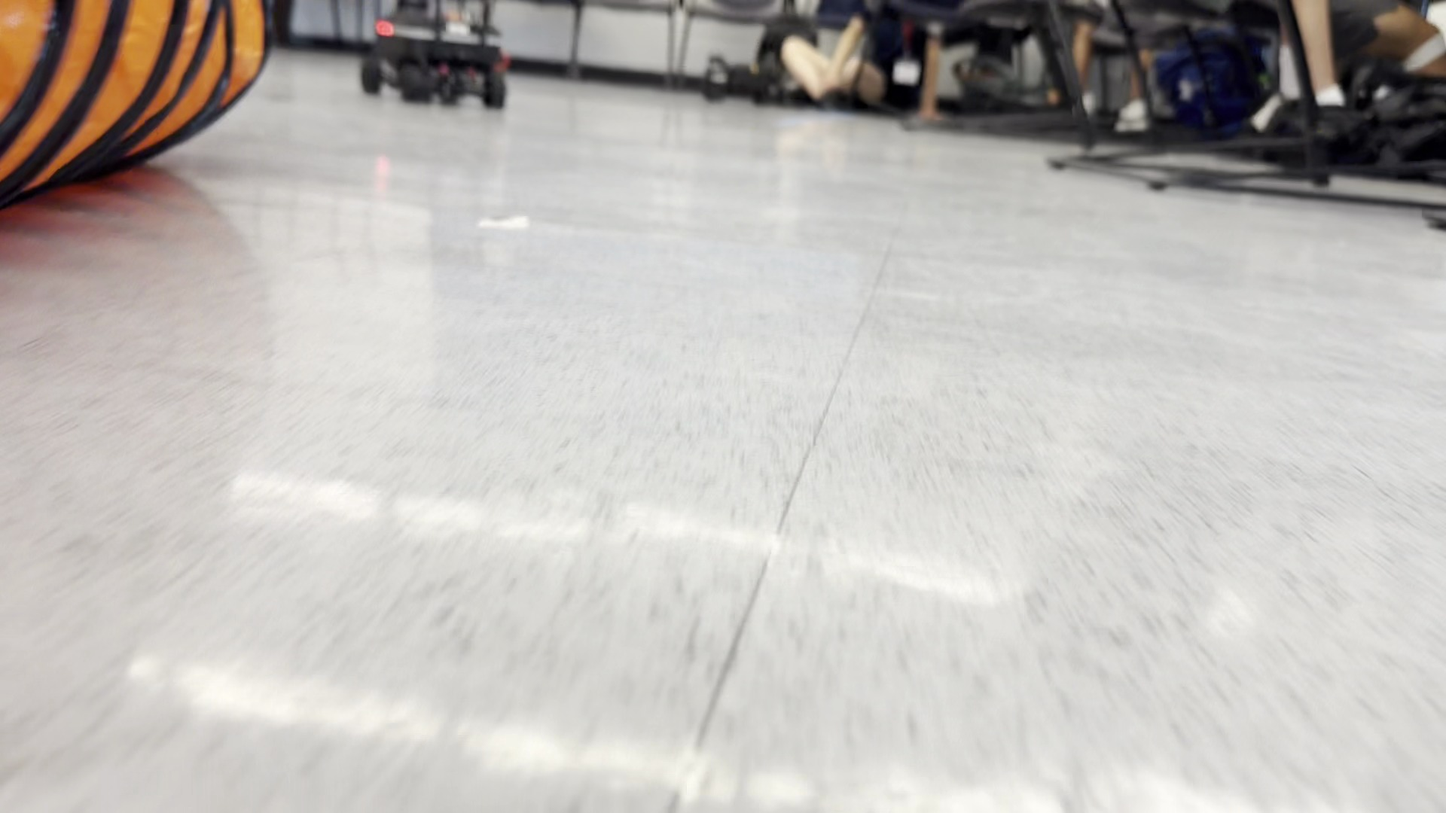racecar: (359, 0, 508, 109)
